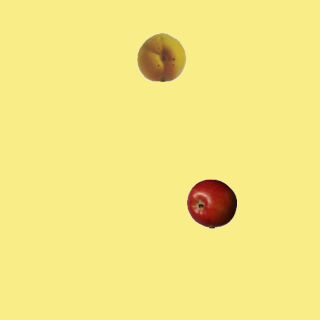Apple Braeburn: (186, 178, 236, 228)
Peach 2: (136, 31, 186, 81)
